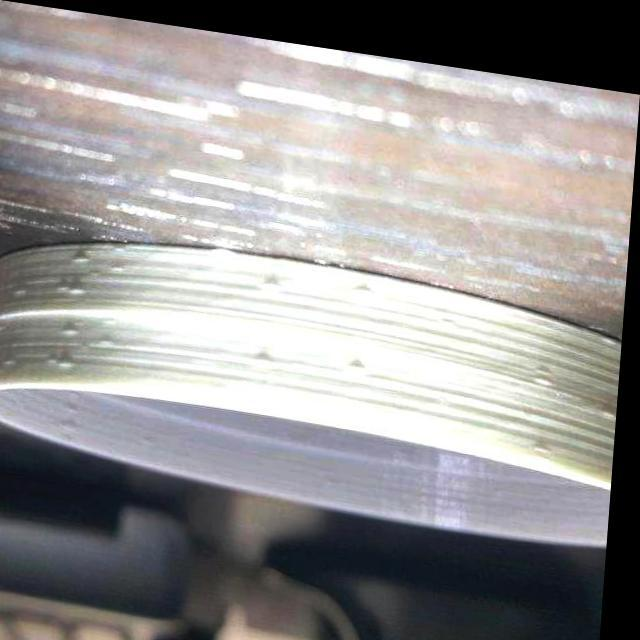zits: (351, 269, 382, 297), (260, 268, 292, 294), (256, 340, 286, 366), (64, 317, 89, 344), (61, 346, 86, 370), (352, 345, 378, 368), (538, 348, 561, 372), (63, 412, 88, 434), (10, 282, 33, 304), (70, 279, 93, 300), (74, 248, 95, 269), (99, 328, 122, 347), (68, 395, 88, 415), (607, 382, 622, 404)
